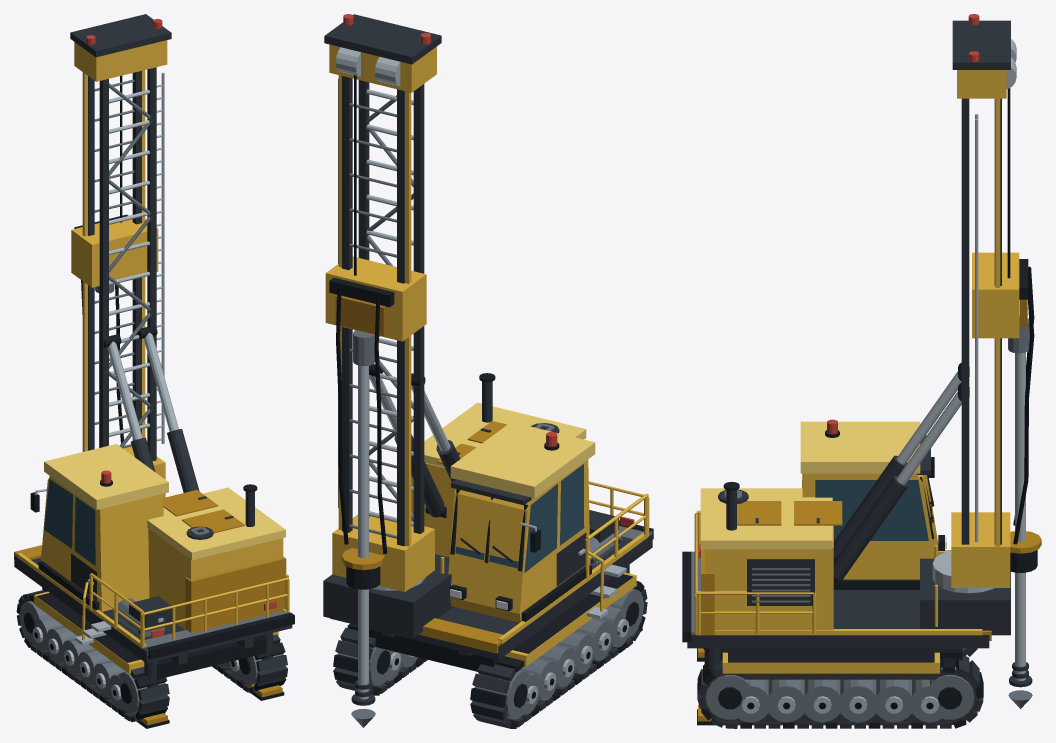
The model's file is mine-mirage-drill-rig.glb.
The picture shows the model from 3 angles, left to right: view 1: azimuth 30°, elevation 25°; view 2: azimuth 150°, elevation 25°; view 3: azimuth 270°, elevation 25°; orthographic projection. The views are drawn at different scales.
Parts seen in each view (by area): view 1: CAB_shell_174, CAB_roof_176, BODY_engine_back_205, BODY_engine_main_204, BODY_engine_top_206, MAST_main_upright_236, MAST_rotary_head_306, MAST_main_upright_238, BODY_deck_169, MAST_crown_roof_319, MAST_crown_case_318, MAST_main_upright_237 (+28 smaller); view 2: CAB_shell_174, CAB_roof_176, MAST_turntable_232, MAST_main_upright_236, MAST_main_upright_237, MAST_lower_housing_234, MAST_rotary_head_306, BODY_deck_169, MAST_crown_roof_319, DRILL_steel_310, MAST_main_upright_235, MAST_yellow_trim_239 (+33 smaller); view 3: BODY_deck_169, BODY_engine_main_204, BODY_engine_top_206, CAB_roof_176, CAB_shell_174, MAST_turntable_232, MAST_main_upright_238, MAST_lower_housing_234, MAST_rotary_head_306, CAB_opposite_window_181, TRACK_black_guard_stripe_168, DRILL_steel_310 (+28 smaller).
Boxes of the visible parts, left/top/right/bottom form: CAB_shell_174: left=41, top=476, right=163, bottom=611; CAB_roof_176: left=44, top=444, right=168, bottom=509; BODY_engine_back_205: left=185, top=556, right=286, bottom=632; BODY_engine_main_204: left=148, top=528, right=283, bottom=629; BODY_engine_top_206: left=147, top=487, right=285, bottom=560; MAST_main_upright_236: left=99, top=79, right=108, bottom=447; MAST_rotary_head_306: left=71, top=215, right=158, bottom=287; MAST_main_upright_238: left=147, top=67, right=156, bottom=461; BODY_deck_169: left=14, top=555, right=292, bottom=663; MAST_crown_roof_319: left=70, top=14, right=171, bottom=57; MAST_crown_case_318: left=74, top=40, right=167, bottom=81; MAST_main_upright_237: left=132, top=71, right=141, bottom=440; CAB_shell_174: left=448, top=459, right=590, bottom=622; CAB_roof_176: left=450, top=422, right=595, bottom=498; MAST_turntable_232: left=323, top=563, right=453, bottom=638; MAST_main_upright_236: left=413, top=84, right=424, bottom=533; MAST_main_upright_237: left=342, top=76, right=352, bottom=532; MAST_lower_housing_234: left=332, top=514, right=434, bottom=591; MAST_rotary_head_306: left=325, top=256, right=426, bottom=341; BODY_deck_169: left=330, top=534, right=652, bottom=659; MAST_crown_roof_319: left=324, top=14, right=441, bottom=64; DRILL_steel_310: left=358, top=365, right=368, bottom=699; MAST_main_upright_235: left=397, top=89, right=404, bottom=546; MAST_yellow_trim_239: left=405, top=91, right=411, bottom=546; BODY_deck_169: left=687, top=590, right=989, bottom=648; BODY_engine_main_204: left=705, top=525, right=833, bottom=630; BODY_engine_top_206: left=700, top=488, right=832, bottom=549; CAB_roof_176: left=800, top=421, right=920, bottom=473; CAB_shell_174: left=802, top=473, right=938, bottom=579; MAST_turntable_232: left=920, top=558, right=1010, bottom=635; MAST_main_upright_238: left=961, top=98, right=969, bottom=544; MAST_lower_housing_234: left=951, top=512, right=1010, bottom=587; MAST_rotary_head_306: left=972, top=252, right=1019, bottom=338; CAB_opposite_window_181: left=815, top=480, right=928, bottom=540; TRACK_black_guard_stripe_168: left=728, top=648, right=934, bottom=662; DRILL_steel_310: left=1015, top=352, right=1025, bottom=680.
Size of the model in its own units: 4.05 by 14.04 by 6.79.
